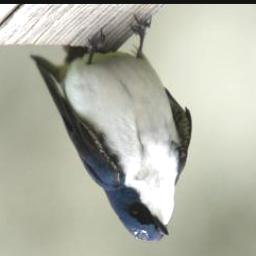Swallow: (29, 13, 193, 243)
